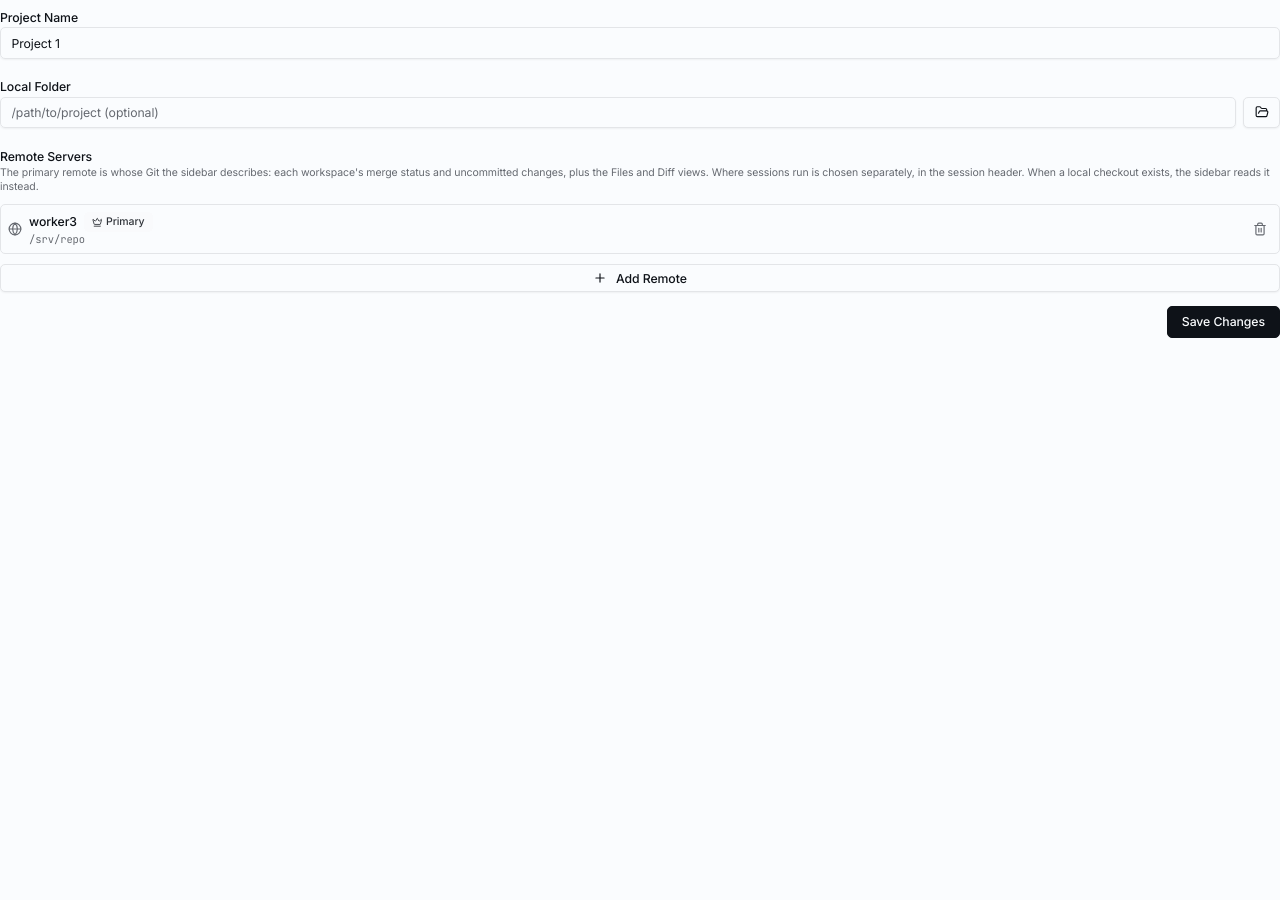
Scenario: ProjectSettingsForm unlink guard › says a machine with a revoked token will not come back
This screenshot has width=1280, height=900.
Click the button named "Unlink worker3": (1260, 229) left=1248, top=217, right=1272, bottom=241
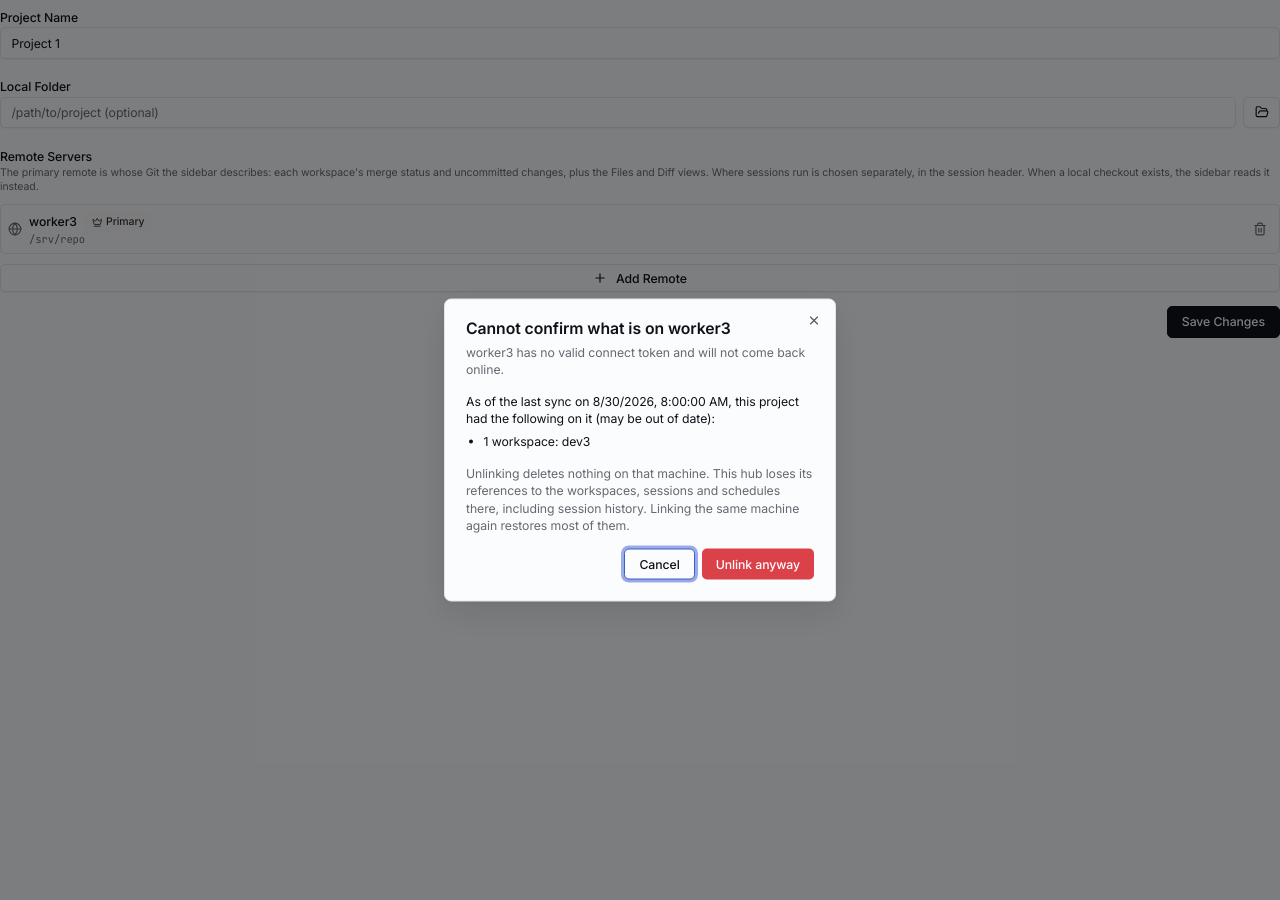
Now the text "worker3 has no valid connect token and will not come back online" is shown, box left=466, top=344, right=805, bottom=377
